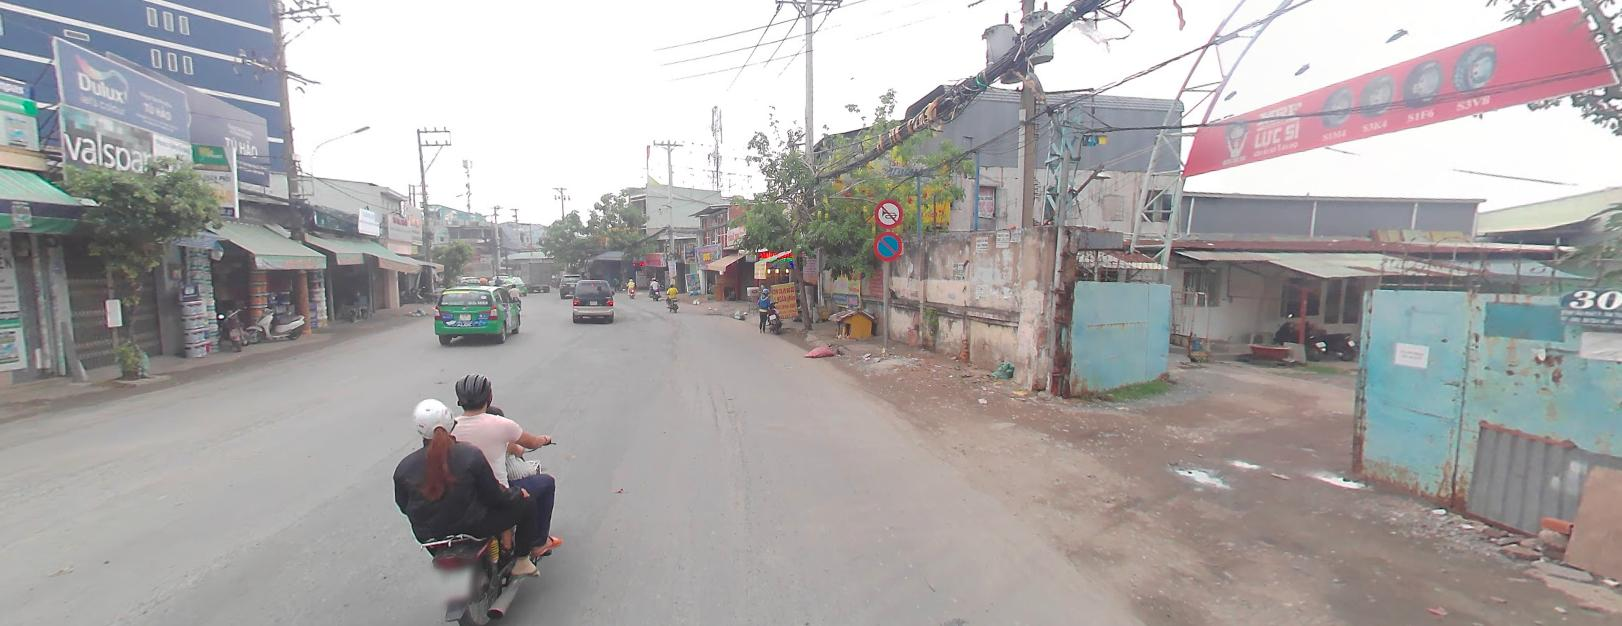Cam con lai: (874, 196, 903, 226)
Cam dung va do: (871, 229, 902, 259)
